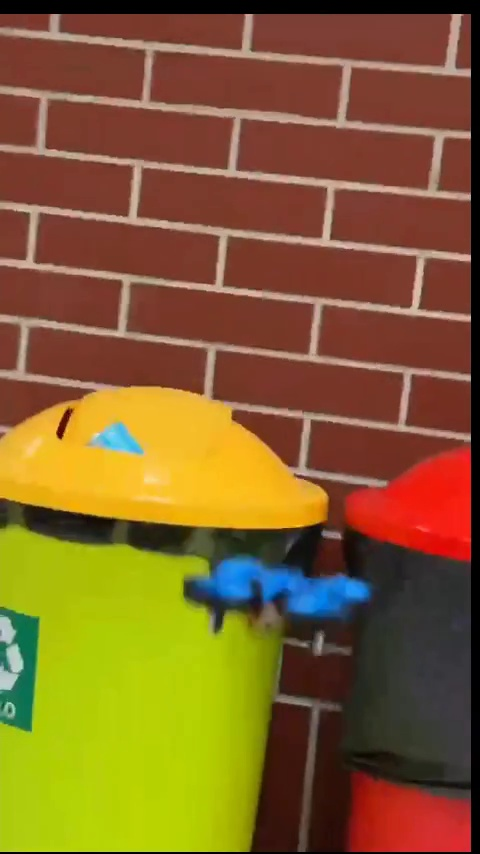drone: (184, 547, 363, 649)
